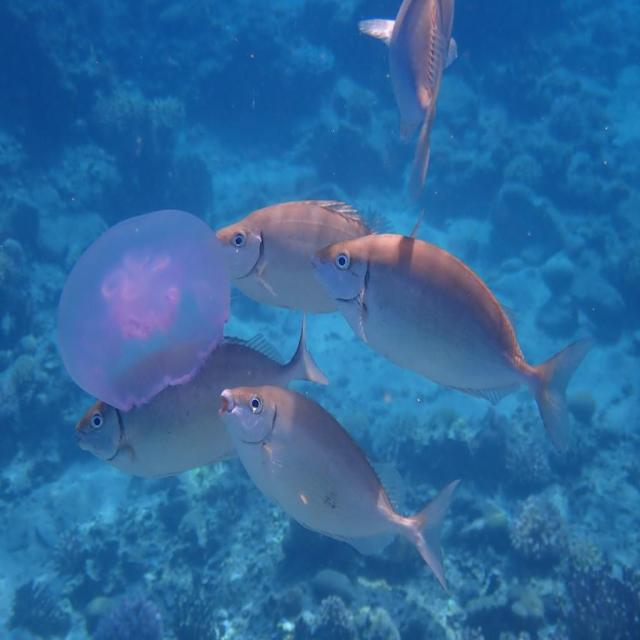Sokar Baligi: (308, 224, 589, 457), (219, 365, 467, 603)
